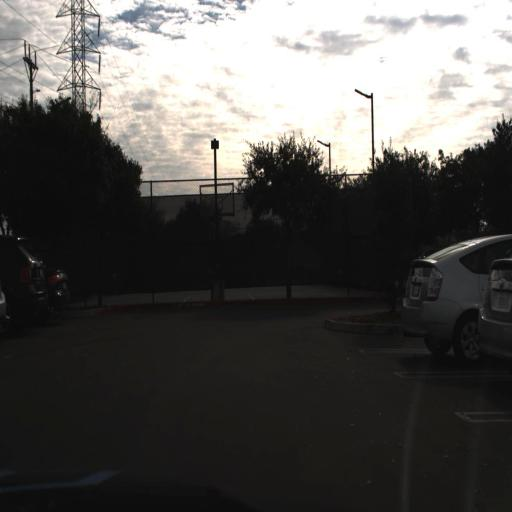car: (399, 231, 500, 367), (479, 250, 512, 400), (0, 235, 47, 338), (44, 253, 69, 317)
